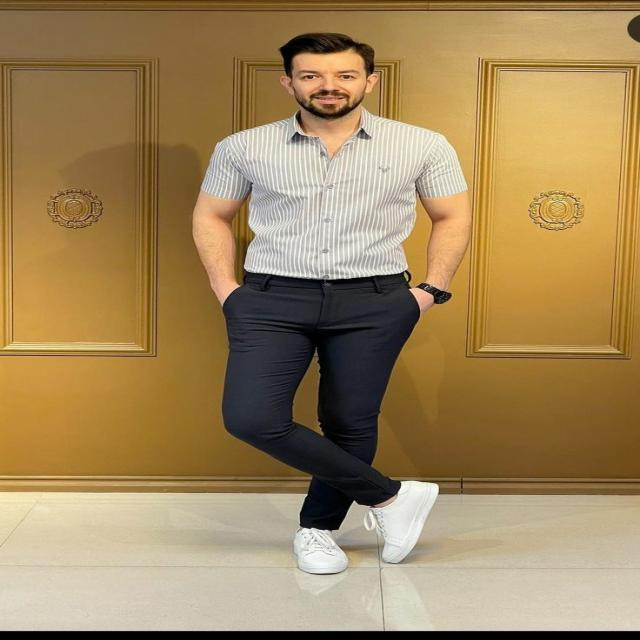male-dress: (187, 112, 483, 529), (205, 272, 450, 519), (209, 124, 479, 290)
